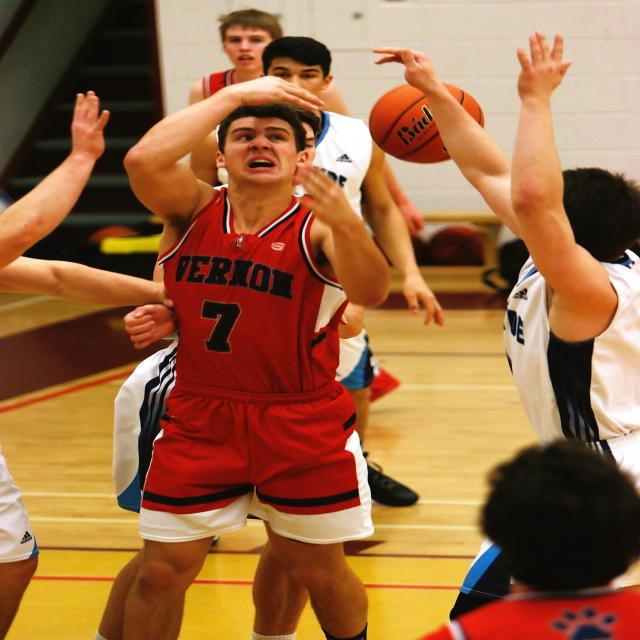body: (107, 70, 396, 640), (86, 88, 379, 640), (369, 28, 637, 623), (185, 35, 450, 511), (88, 182, 256, 640), (184, 9, 430, 236), (418, 438, 640, 640)
